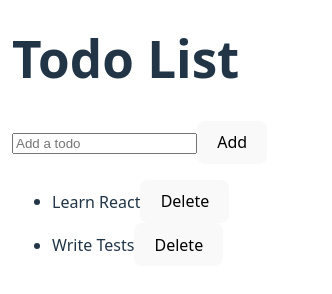
Test case: TodoList Component › adds a new todo
Type "New Task" into the field with placeholder "Add a todo". click: (104, 144)
box: [12,133,197,154]
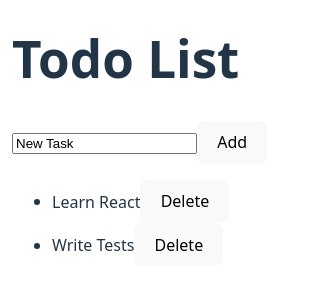
Click the button "Add". click: (232, 142)
box: [197,121,267,164]
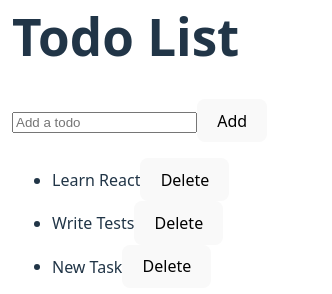
Now the text "New Task" is shown, box [52,255,122,277]
